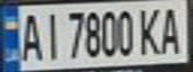0: (115, 6, 136, 56), (100, 7, 118, 58)
7: (63, 7, 84, 60)
8: (81, 7, 103, 60)
A: (15, 9, 45, 62), (157, 2, 187, 55)
I: (39, 8, 63, 61)
K: (136, 4, 163, 56)
